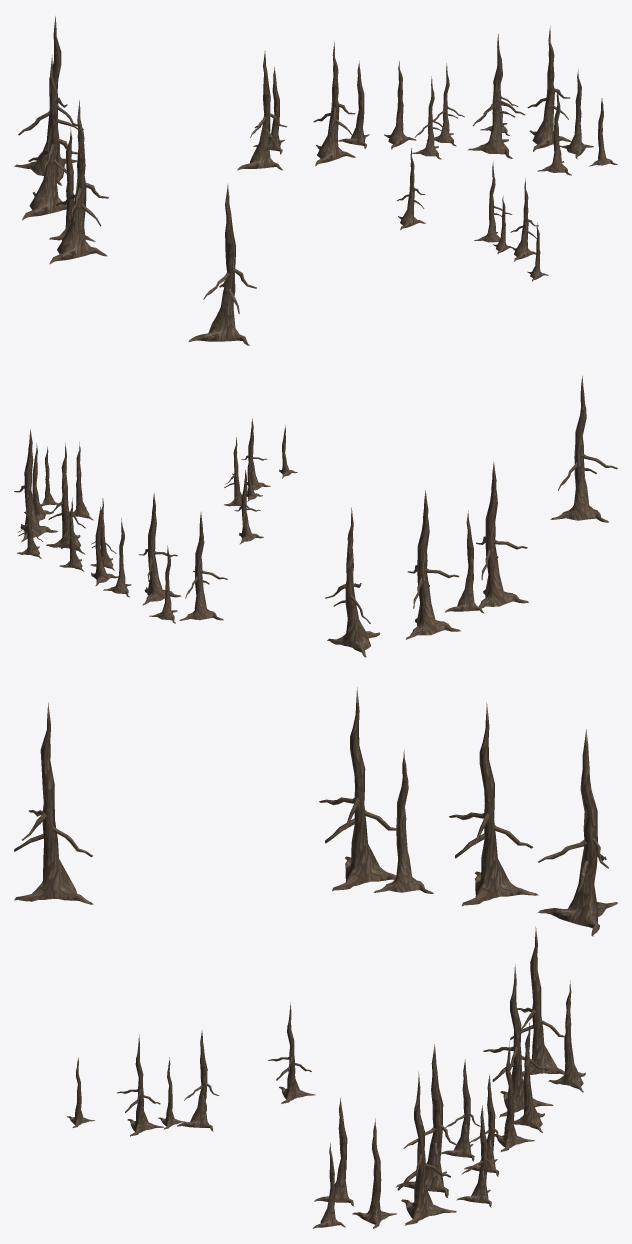
Rendered from songshugan_09.FBX.
The picture shows the model from 3 angles, top to bottom: view 1: azimuth 30°, elevation 25°; view 2: azimuth 150°, elevation 25°; view 3: azimuth 270°, elevation 25°; orthographic projection. The views are drawn at different scales.
Visible parts, largest first — view 1: Object042; view 2: Object042; view 3: Object042.
Boxes of the visible parts, x1,y1,x2,y2 form: Object042: (14, 16, 617, 345); Object042: (14, 375, 617, 657); Object042: (14, 687, 617, 1228).
Bounding box in the file's own units: 11070 × 3480 × 8348.
